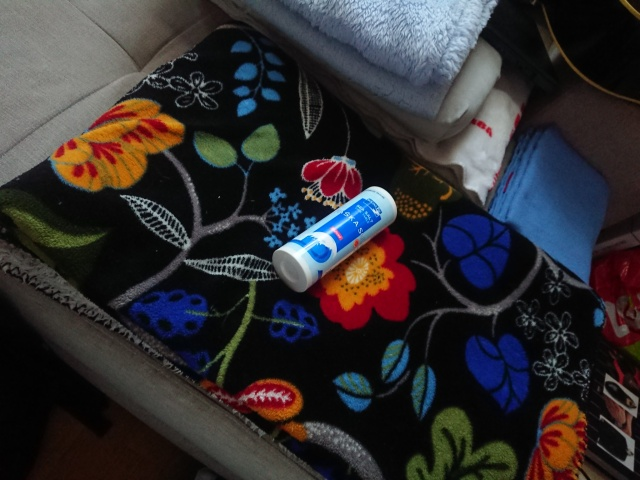Solana Pag Fine Sea Salt 250g: (269, 182, 401, 296)
